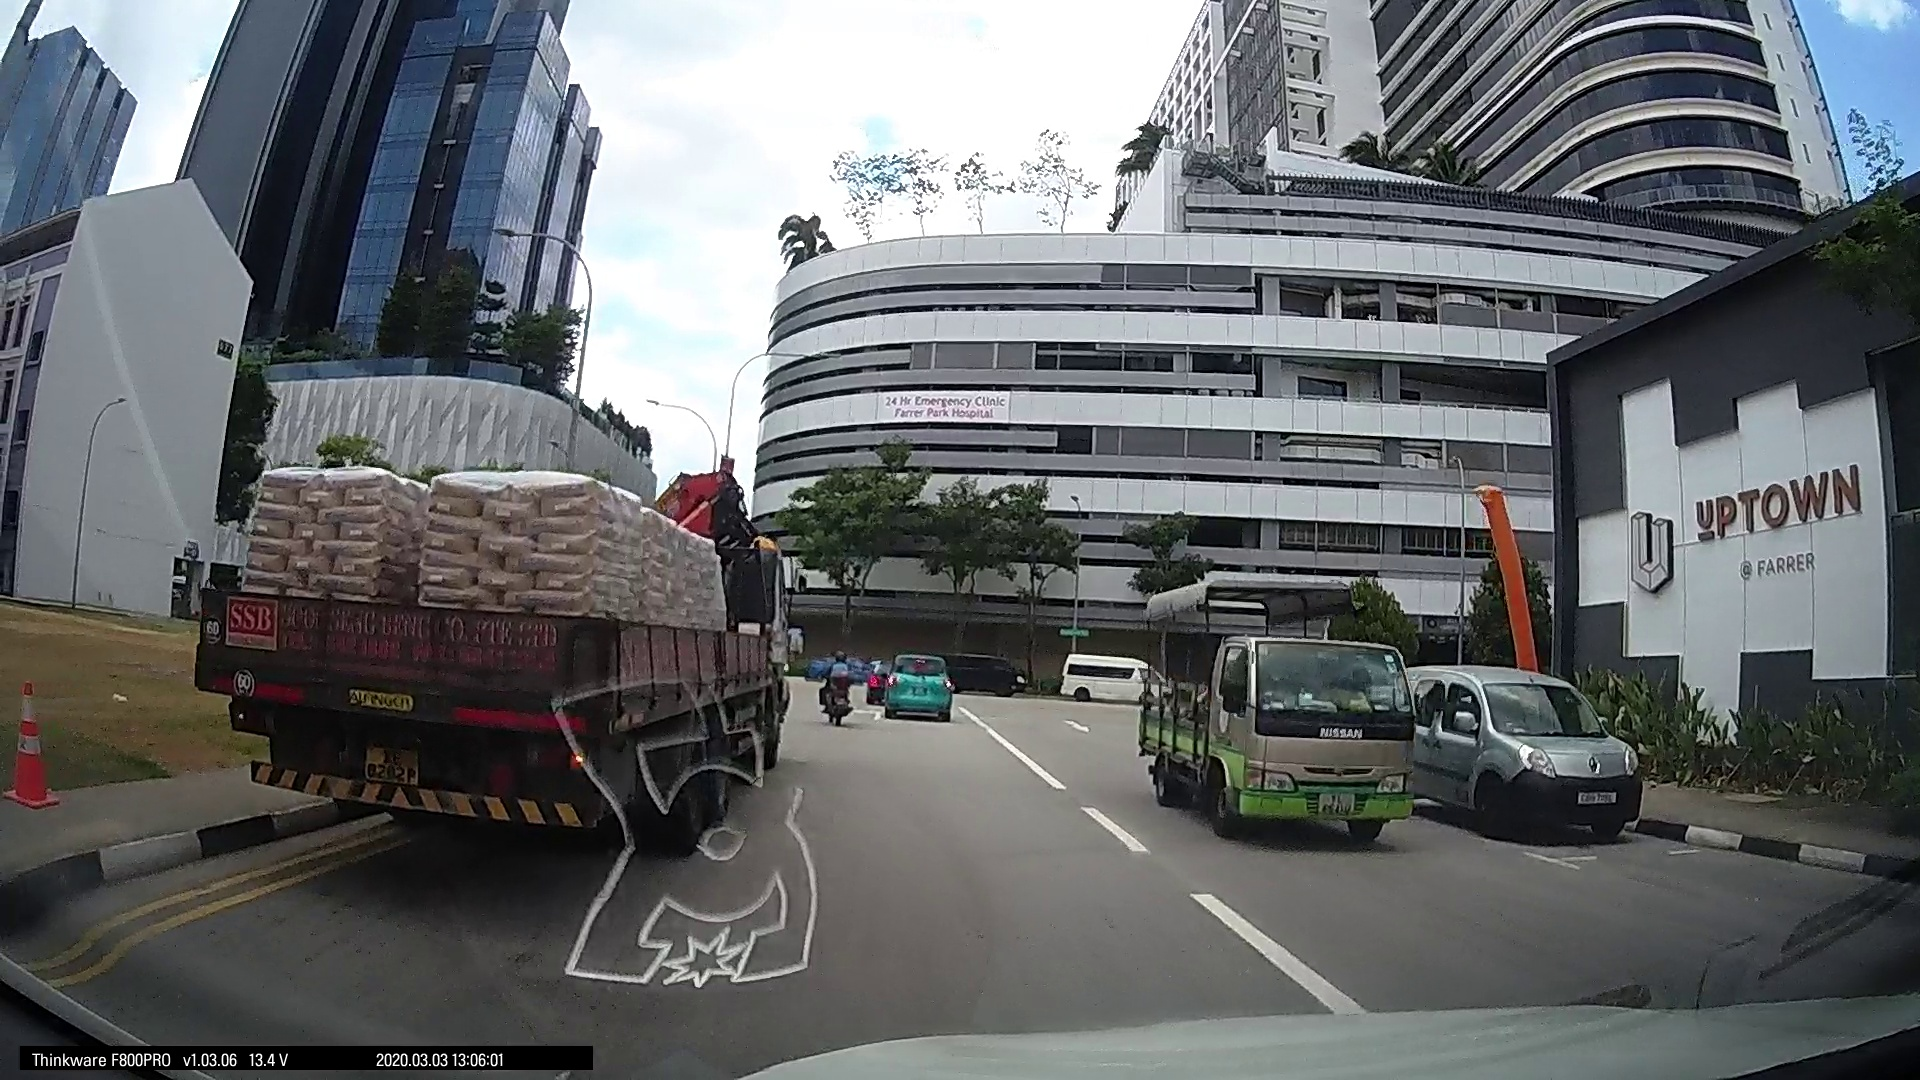Heavy Vehicle: (196, 393, 786, 855), (1133, 612, 1418, 843), (877, 649, 955, 720)
Light Vehicle: (1399, 663, 1643, 843), (1048, 649, 1145, 703), (877, 651, 953, 719), (943, 647, 1022, 695)
